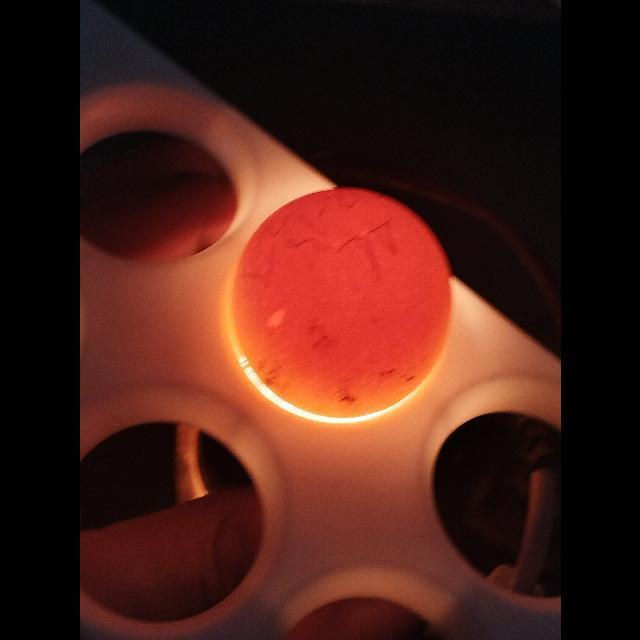Infertile: (228, 186, 454, 420)
